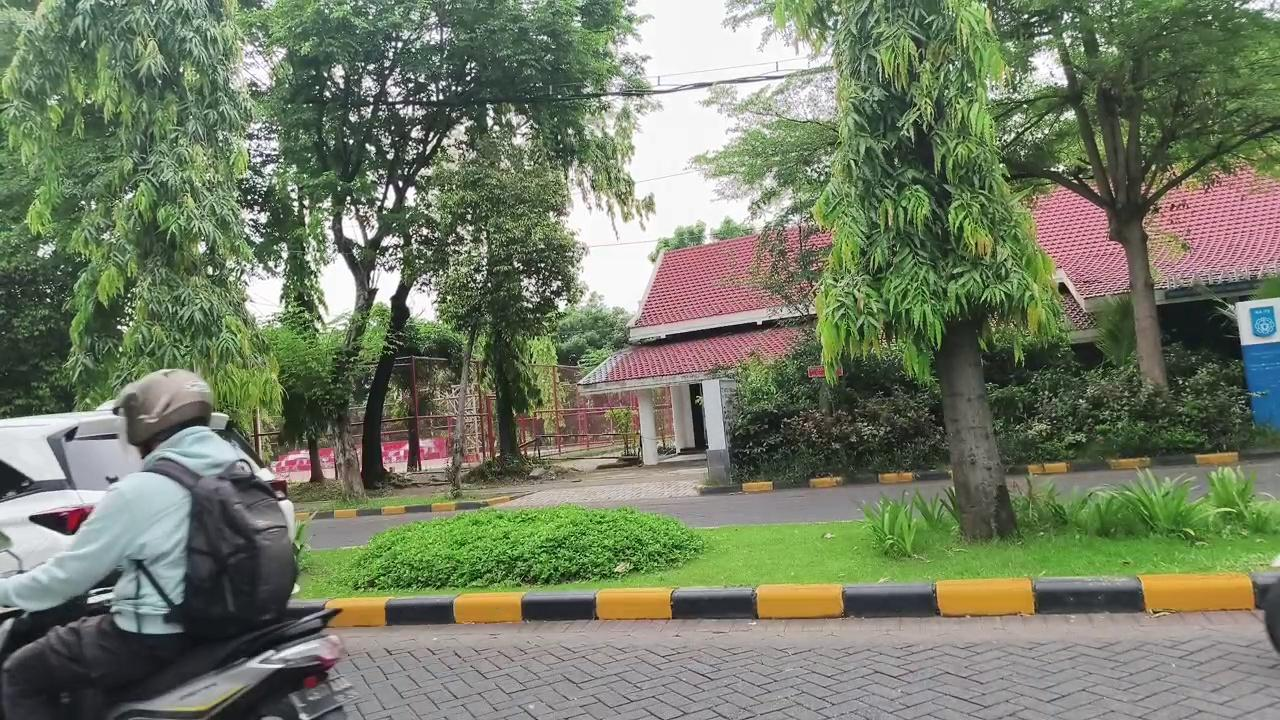Helmet: (0, 369, 240, 719)
Motor: (63, 610, 356, 719), (1260, 581, 1279, 651)
